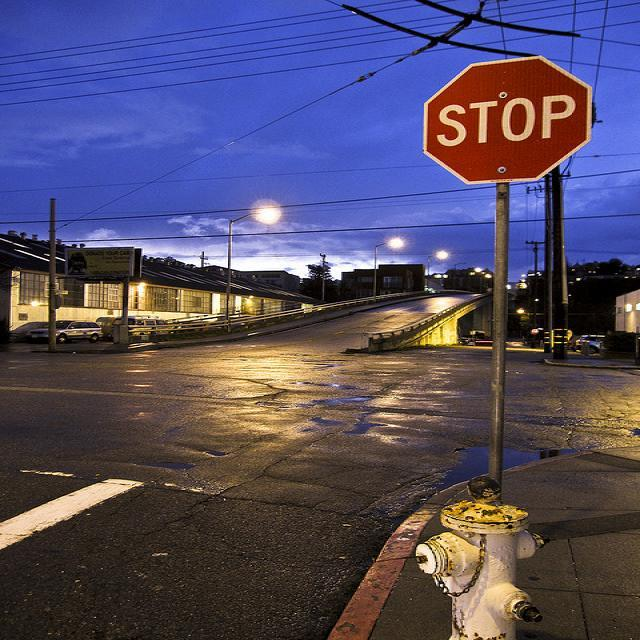fire_hydrant: (414, 476, 552, 639)
